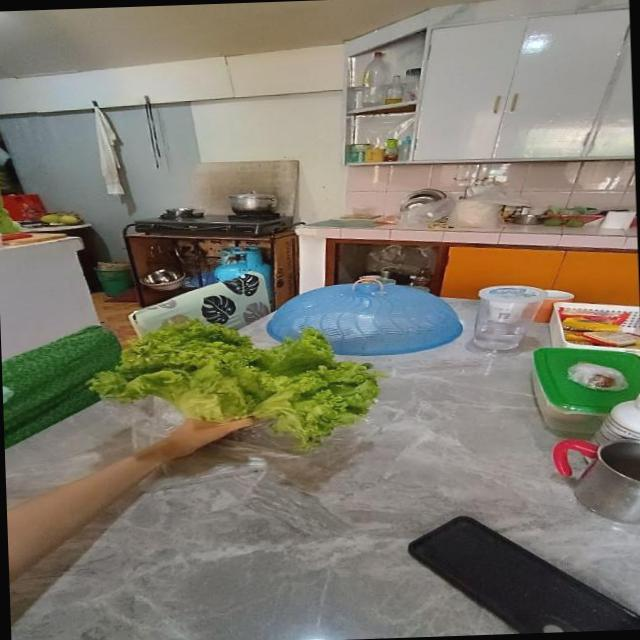Lettuce-Ready-to-Harvest: (88, 320, 379, 451)
